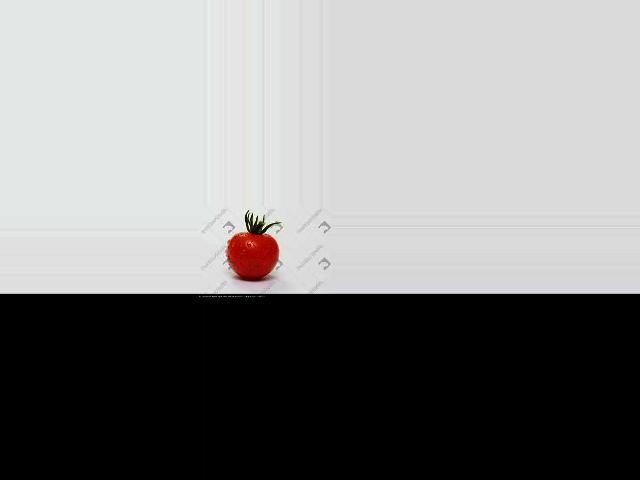tomato: (228, 233, 279, 279)
